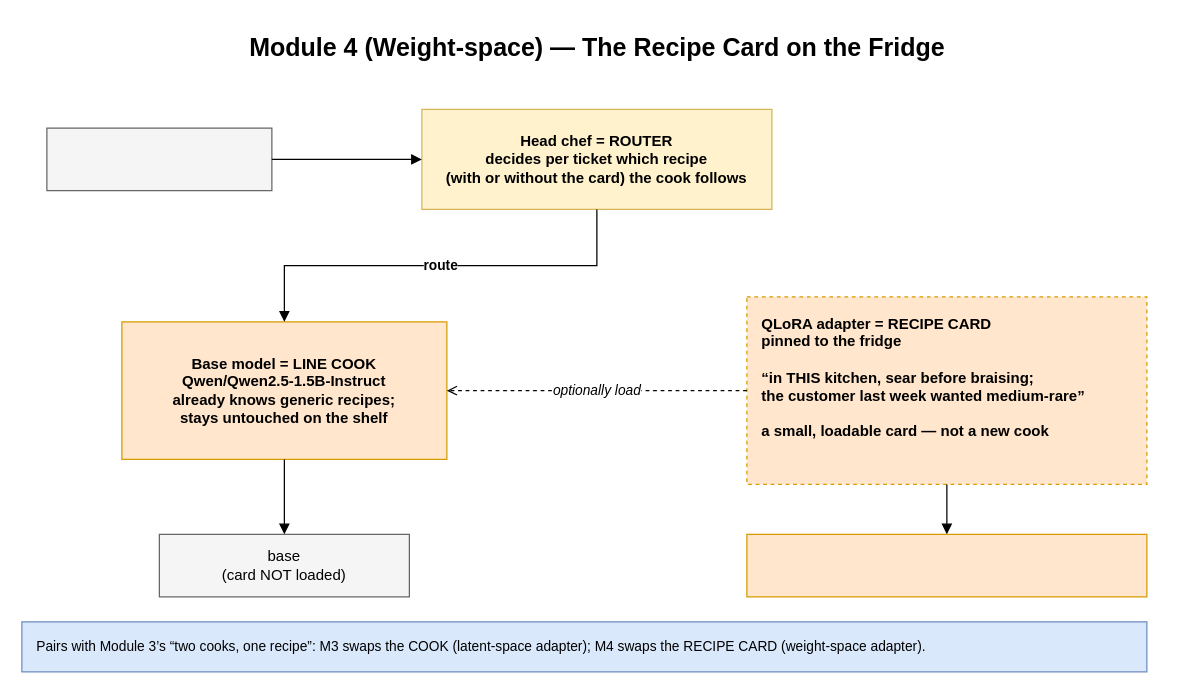
The diagram is 1194 pixels wide and 694 high, and some of its shapes have lost their labels. Here are the shapes that lost their labels. From the top down, the box of each, then its label:
(46, 127, 272, 191): Incoming ticket (task)
(746, 533, 1147, 597): specialised (base + recipe card loaded)
